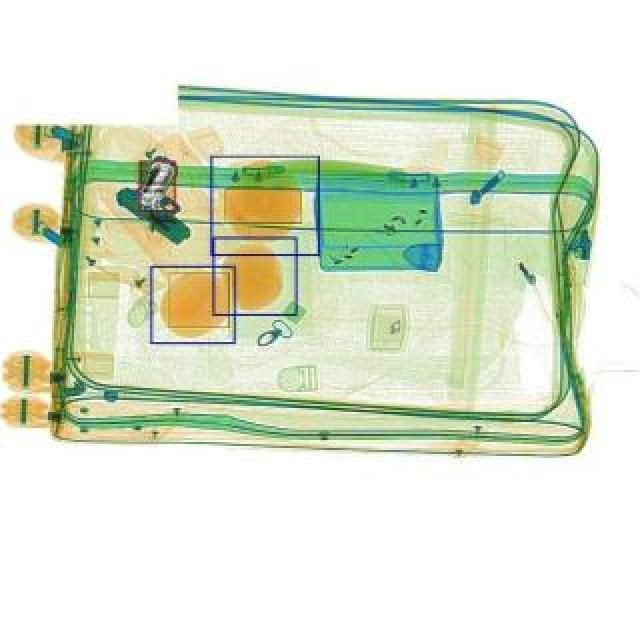gun: (114, 150, 224, 248)
